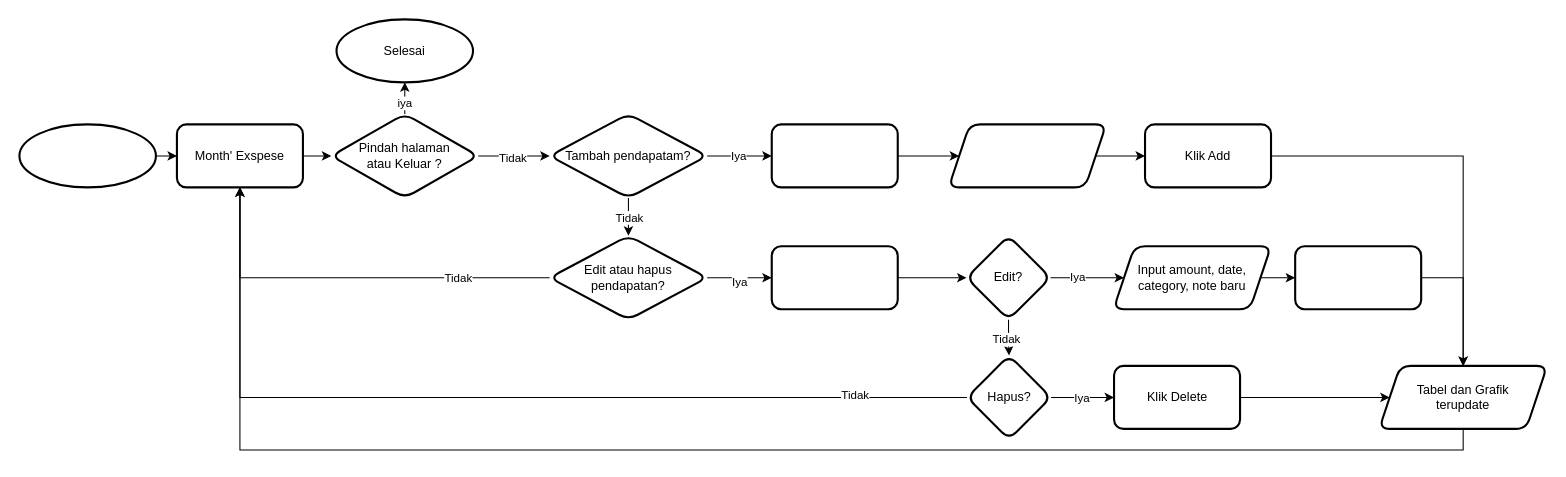
This 1566x477 diagram has some shape labels left out. The shapes that lost their labels are listed below. From the top down, each one's centre as x and y in pixels, then its label:
At (87,155): "Mulai".
At (834,155): "Tambah Pengeluaran".
At (1027,155): "Input amount, date, category, note".
At (834,277): "Klik data pada tabel".
At (1358,277): "Klik Change".
